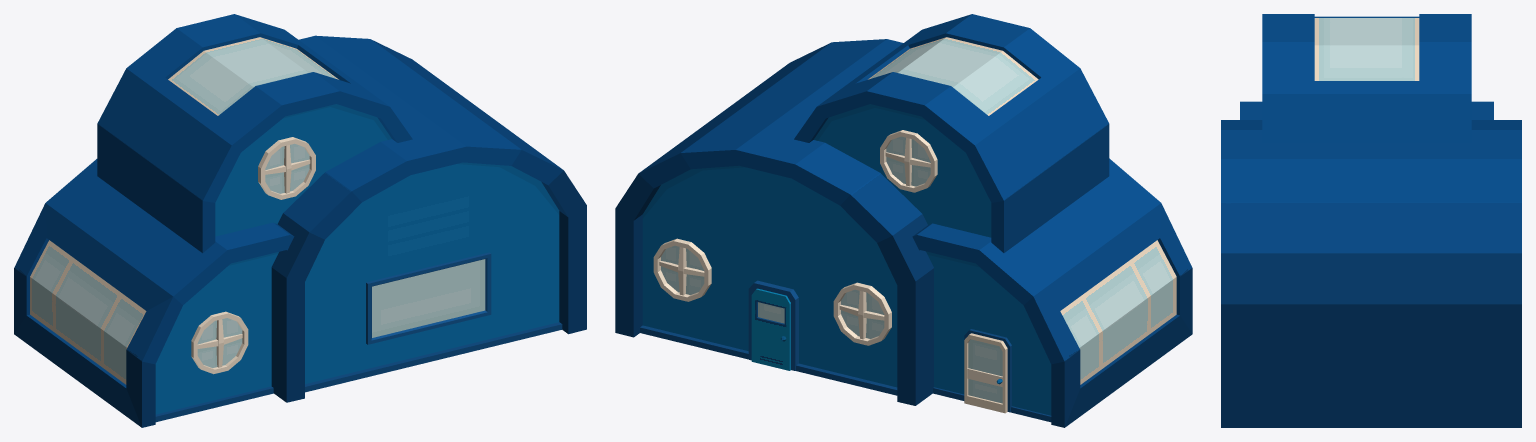
Rendered from W.H_darkblue.fix.gltf.
3 views of the same model, side by side, from view 1: azimuth 30°, elevation 25°; view 2: azimuth 150°, elevation 25°; view 3: azimuth 270°, elevation 25° (orthographic).
Parts seen in each view (by area): view 1: mesh; view 2: mesh; view 3: mesh.
Boxes of the visible parts, x1,y1,x2,y2 form: mesh: (14,14,586,427); mesh: (615,14,1192,427); mesh: (1221,14,1521,427).
Bounding box in the file's own units: 21.65 × 13.19 × 13.
Materials: 1 (1 with a texture image).
